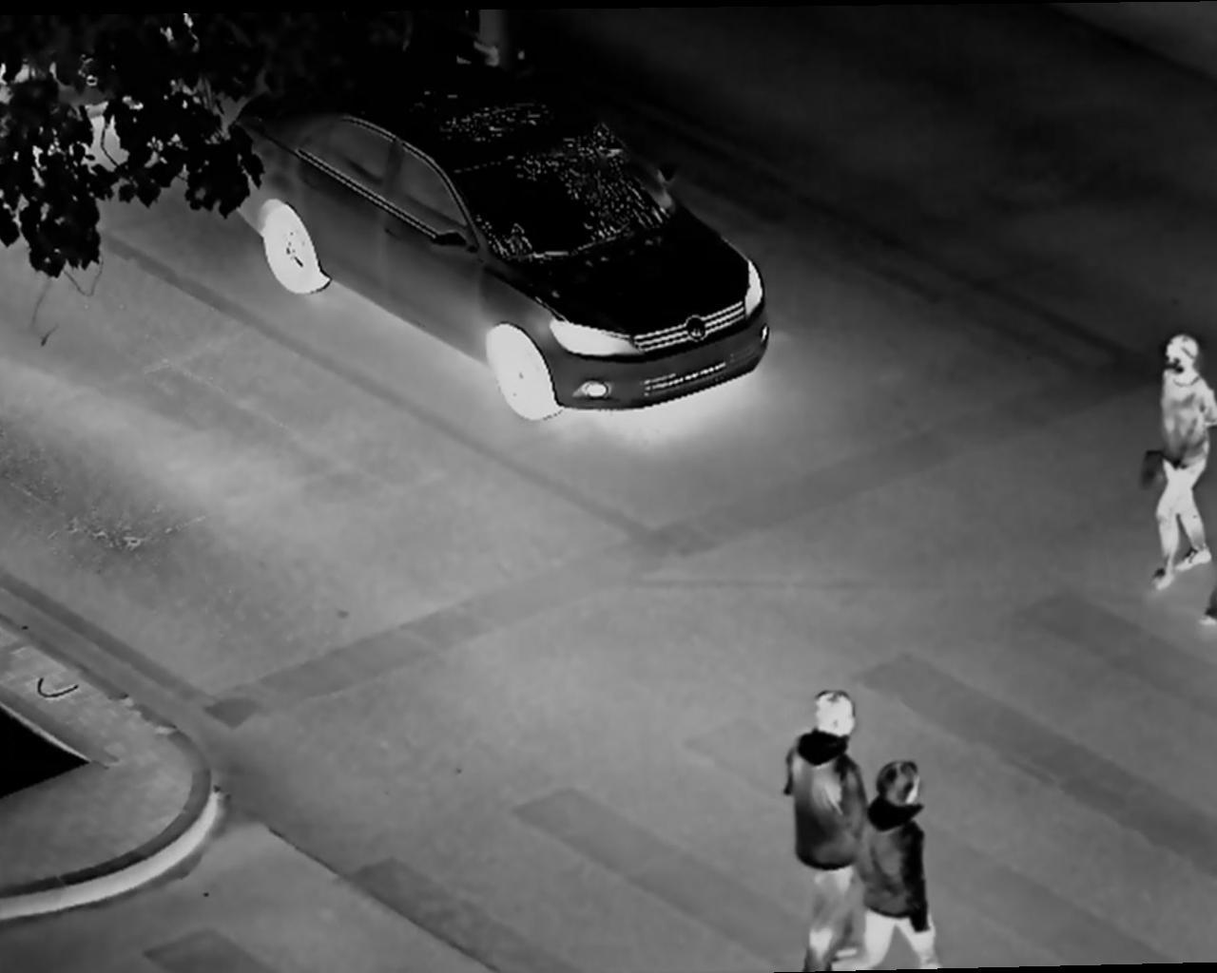person: (784, 689, 876, 973), (863, 757, 962, 971), (1153, 329, 1216, 590)
